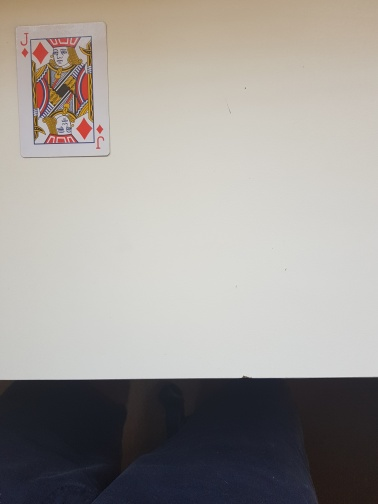jack: (15, 20, 112, 159)
